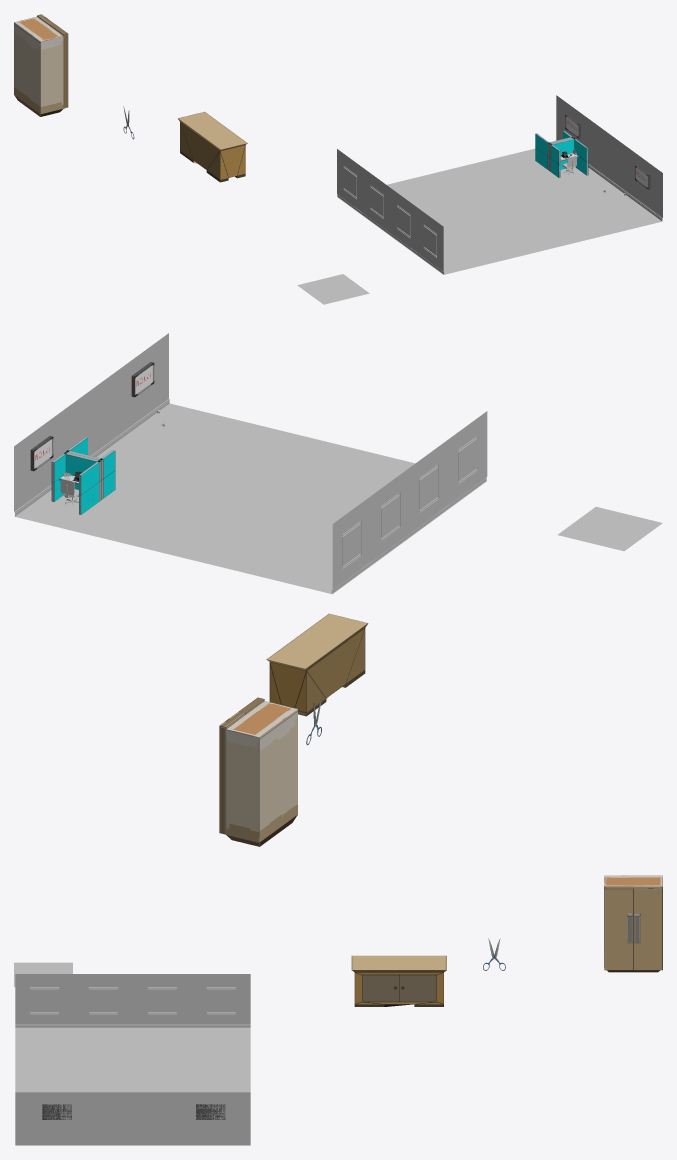
The model's file is MesaEscritórioDecorada.fbx.
3 views of the same model, one above another, from view 1: azimuth 30°, elevation 25°; view 2: azimuth 150°, elevation 25°; view 3: azimuth 270°, elevation 25° (orthographic). The views are drawn at different scales.
Visible parts, largest first — view 1: Hall, CabinetBig, CabinetSmall, Setup, Textura, WhiteboradSmall; view 2: Hall, CabinetBig, CabinetSmall, Setup, Textura, WhiteboradSmall; view 3: Hall, CabinetBig, CabinetSmall, WhiteboradSmall, Textura.
Boxes of the visible parts, x1,y1,x2,y2 form: Hall: [337, 95, 662, 274]; CabinetBig: [14, 14, 68, 116]; CabinetSmall: [178, 111, 247, 182]; Setup: [535, 131, 588, 177]; Textura: [297, 274, 369, 304]; WhiteboradSmall: [565, 114, 650, 189]; Hall: [14, 333, 487, 594]; CabinetBig: [219, 697, 297, 846]; CabinetSmall: [266, 613, 368, 716]; Setup: [51, 437, 115, 514]; Textura: [557, 506, 662, 551]; WhiteboradSmall: [30, 362, 154, 471]; Hall: [15, 974, 250, 1145]; CabinetBig: [604, 875, 662, 972]; CabinetSmall: [351, 955, 446, 1006]; WhiteboradSmall: [42, 1104, 225, 1119]; Textura: [14, 962, 72, 987].
Size of the model in its own units: 3080 by 651 by 4407.
